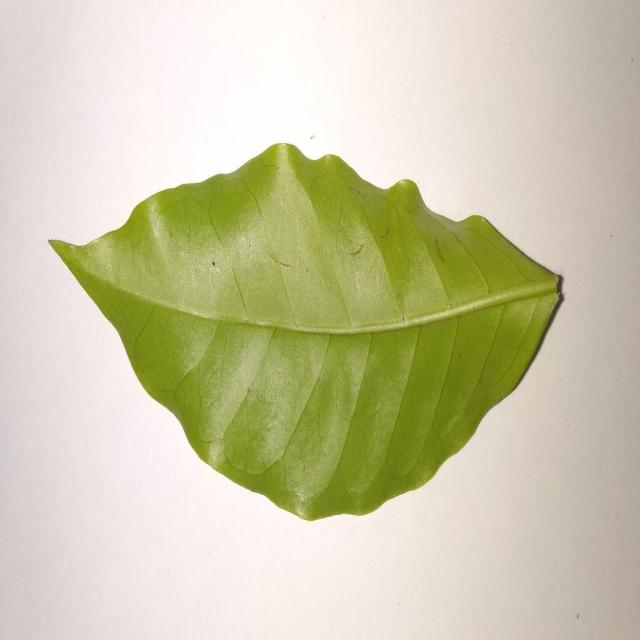Sanas: (48, 143, 564, 524)
